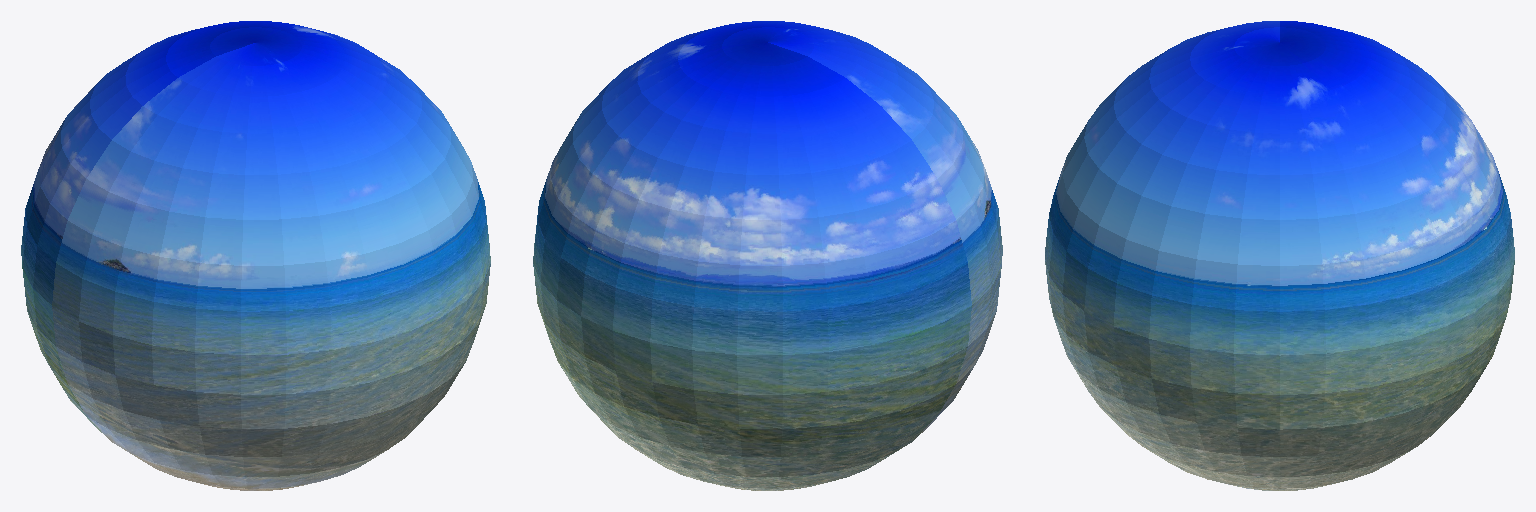
3 views of the same model, side by side, from view 1: azimuth 30°, elevation 25°; view 2: azimuth 150°, elevation 25°; view 3: azimuth 270°, elevation 25° (orthographic).
Visible parts, largest first — view 1: 球; view 2: 球; view 3: 球.
Boxes of the visible parts, box(x1,y1,x2,y2) form: 球: box(21, 21, 490, 490); 球: box(533, 21, 1002, 490); 球: box(1045, 21, 1514, 490).
Bounding box in the file's own units: 2 × 2 × 2.
Materials: 1 (1 with a texture image).